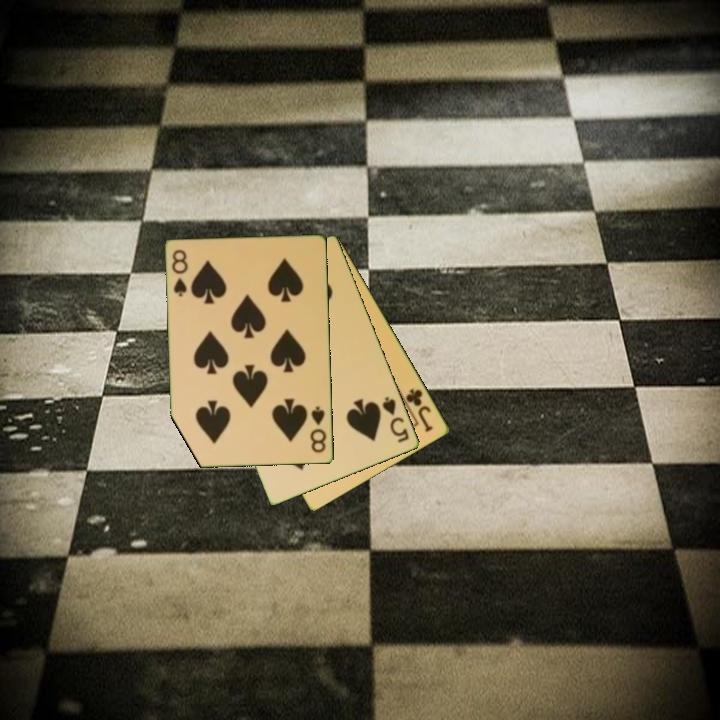5s: (379, 393, 412, 446)
8s: (307, 403, 329, 456), (169, 247, 191, 300)
Jc: (402, 385, 436, 435)
